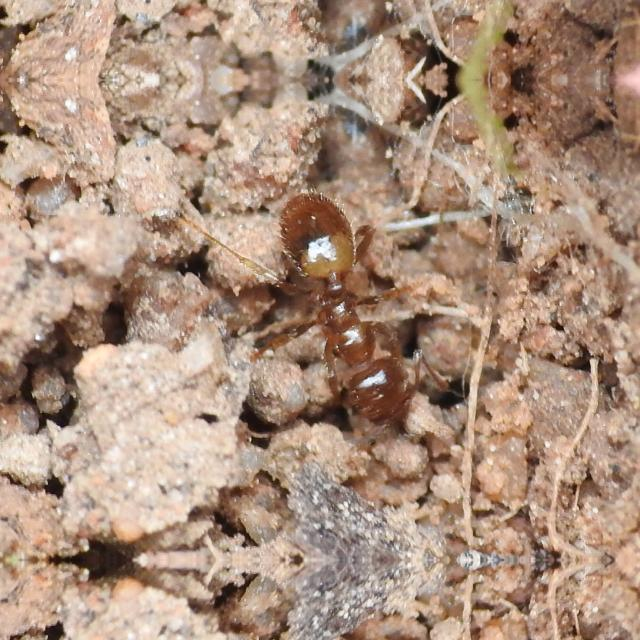Apheanogaster: (237, 172, 458, 442)
